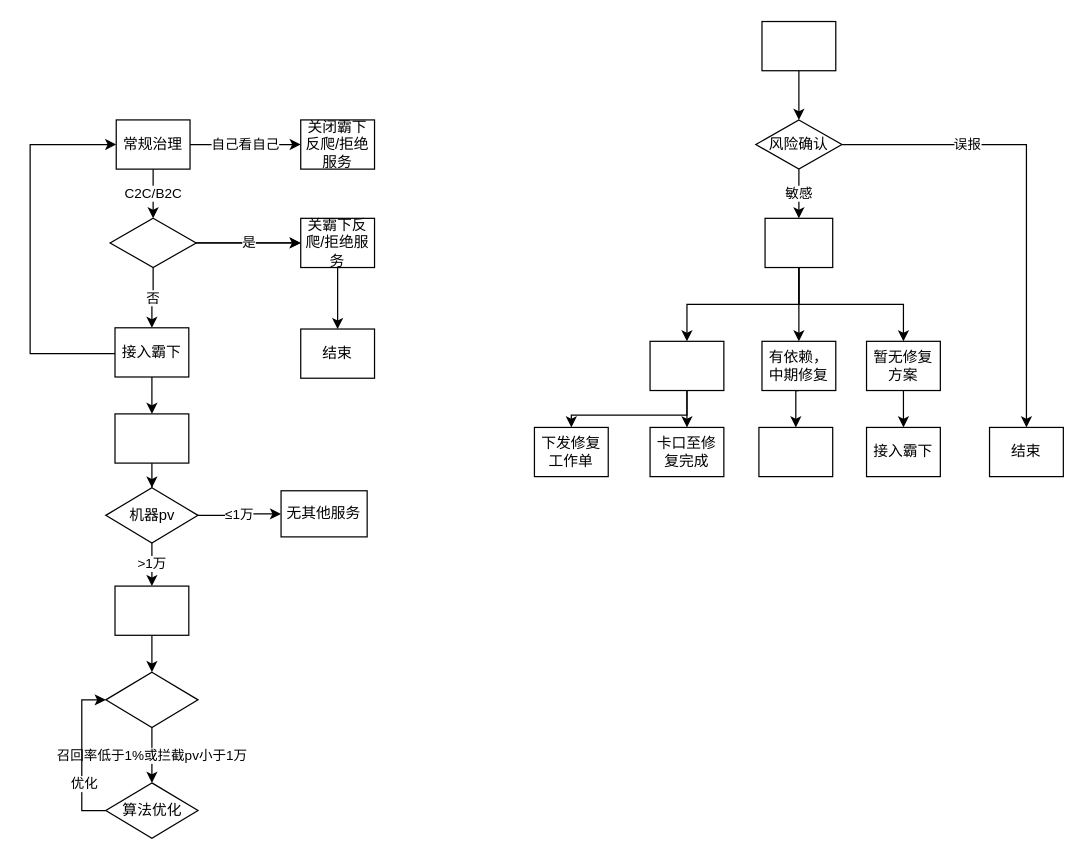
The diagram is 1085 pixels wide and 860 high, and some of its shapes have lost their labels. The shapes that lost their labels are listed below. From the top down, each one's box as (x1, y1, x2, y2) in pixels, then its label:
(761, 20, 836, 71): 增加卡口
(109, 217, 196, 268): 治理完成？
(764, 217, 833, 268): 修复方案/评估
(649, 340, 724, 391): 可短期内修复
(114, 413, 189, 463): 观察模式
(758, 426, 833, 477): 走存量常规修复
(114, 585, 189, 635): 进入霸下反爬/拒绝服务
(105, 671, 198, 728): 效率
